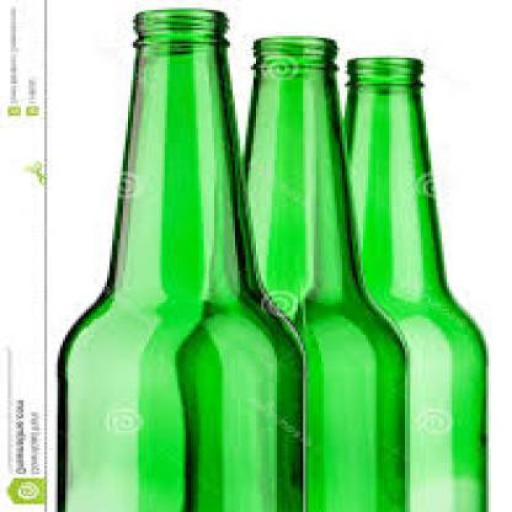glass: (60, 8, 310, 510), (243, 34, 413, 510), (345, 56, 486, 510)
